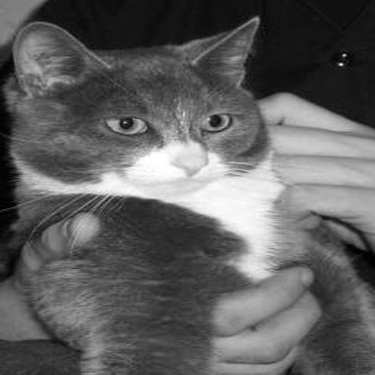cat: (7, 18, 367, 363)
